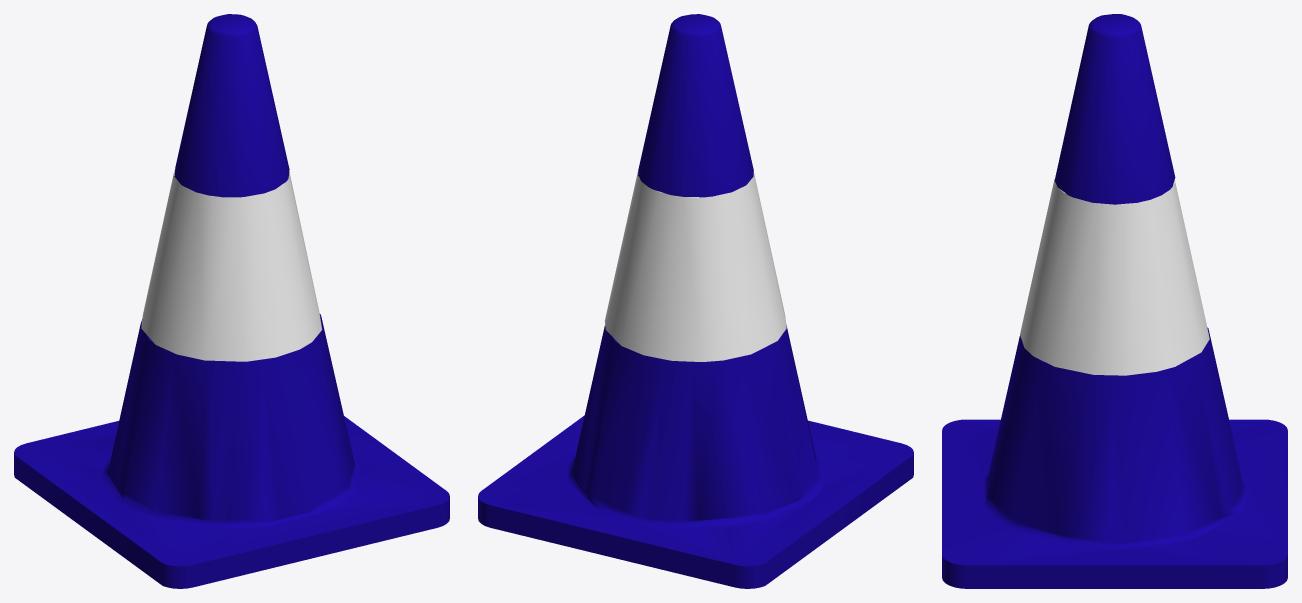
Rendered from cone_blue.dae.
3 views of the same model, side by side, from view 1: azimuth 30°, elevation 25°; view 2: azimuth 150°, elevation 25°; view 3: azimuth 270°, elevation 25° (orthographic). The views are drawn at different scales.
Parts seen in each view (by area): view 1: BlueCone; view 2: BlueCone; view 3: BlueCone.
Boxes of the visible parts, x1,y1,x2,y2 form: BlueCone: (14, 14, 449, 588); BlueCone: (478, 14, 913, 588); BlueCone: (942, 14, 1287, 588).
Bounding box in the file's own units: 0.1995 × 0.2 × 0.3146.
